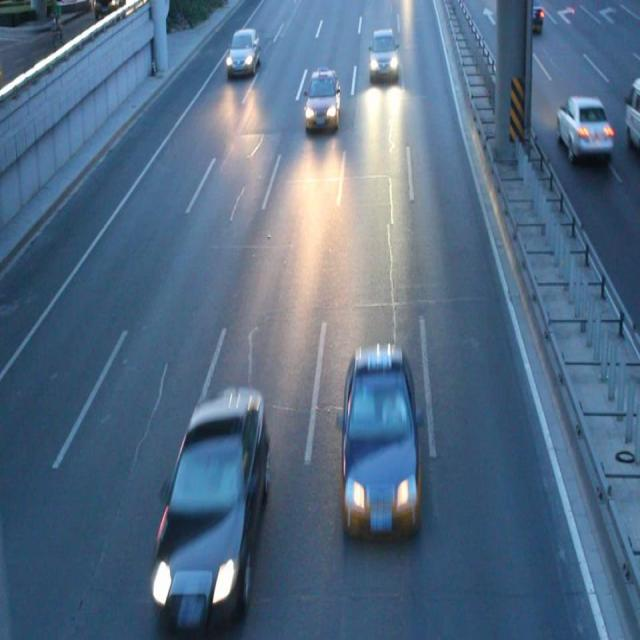car: (154, 386, 269, 627), (344, 340, 420, 537), (553, 95, 613, 156), (305, 67, 338, 131), (225, 28, 259, 79), (371, 26, 398, 84), (515, 1, 544, 37)
truck: (623, 75, 640, 153)
